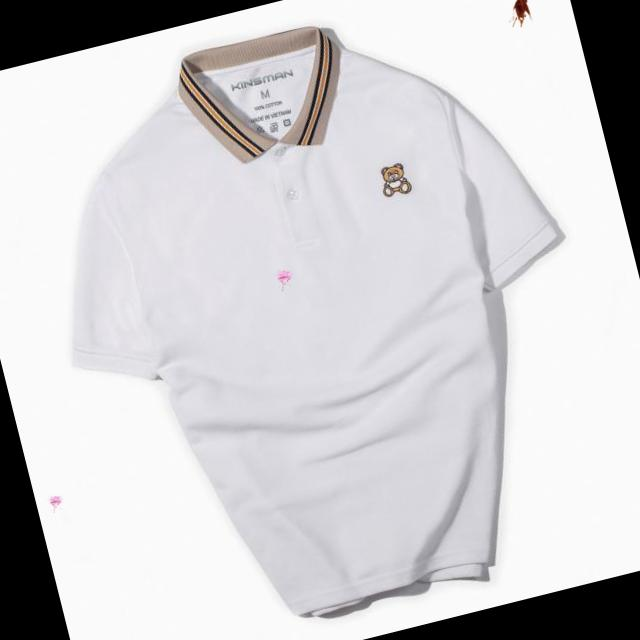stain: (272, 265, 298, 292)
